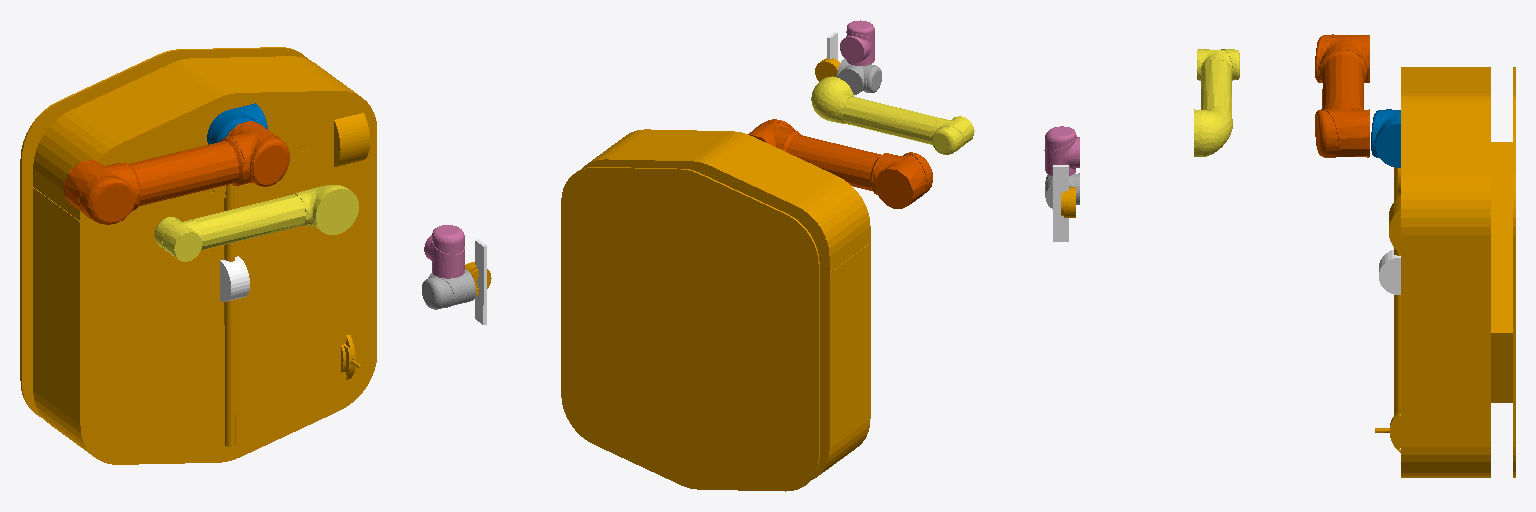
robot.urdf — ridgeback_ur5:
<?xml version="1.0" encoding="UTF-8"?>
<robot name="ridgeback_ur5">
  <joint name="dummy_base_prismatic_y_joint" type="prismatic">
    <origin xyz="0. 0. 0." rpy="0. 0. 0."/>
    <parent link="dummy_base_x"/>
    <child link="dummy_base_y"/>
    <axis xyz="1. 0. 0."/>
    <limit lower="-600.2800293" upper="600.2800293" effort="4800." velocity="15."/>
  </joint>
  <joint name="dummy_base_revolute_z_joint" type="revolute">
    <origin xyz="0. 0. 0." rpy="-1.5707964 -1.5707964 0. "/>
    <parent link="dummy_base_y"/>
    <child link="base_link"/>
    <axis xyz="1. 0. 0."/>
    <limit lower="-600.2800208" upper="600.2800208" effort="4800." velocity="15.0000002"/>
  </joint>
  <joint name="base_lidar" type="fixed">
    <origin xyz="0. 0. 0." rpy="-1.5707964 -1.5707964 0. "/>
    <parent link="base_link"/>
    <child link="tim781"/>
    <axis xyz="1. 0. 0."/>
    <limit lower="-600.2800208" upper="600.2800208" effort="4800." velocity="15.0000002"/>
  </joint>
  <joint name="ur_arm_elbow_joint" type="revolute">
    <origin xyz="0. 0. 0.425" rpy="0. 0. 0."/>
    <parent link="ur_arm_upper_arm_link"/>
    <child link="ur_arm_forearm_link"/>
    <axis xyz="1. 0. 0."/>
    <limit lower="-3.1415927" upper="3.1415927" effort="9000." velocity="3.1415927"/>
  </joint>
  <joint name="ur_arm_shoulder_lift_joint" type="revolute">
    <origin xyz="0. 0. 0." rpy="0. 0. -1.5707964"/>
    <parent link="ur_arm_shoulder_link"/>
    <child link="ur_arm_upper_arm_link"/>
    <axis xyz="1. 0. 0."/>
    <limit lower="-6.2831853" upper="6.2831853" effort="9000." velocity="3.1415927"/>
  </joint>
  <joint name="ur_arm_shoulder_pan_joint" type="revolute">
    <origin xyz="0.369159 0. 0. " rpy="-3.1415925 0. 0. "/>
    <parent link="base_link"/>
    <child link="ur_arm_shoulder_link"/>
    <axis xyz="1. 0. 0."/>
    <limit lower="-6.2831853" upper="6.2831853" effort="9000." velocity="3.1415927"/>
  </joint>
  <joint name="ur_arm_wrist_1_joint" type="revolute">
    <origin xyz="0.10915 0. 0.39225" rpy="0. 0. 0."/>
    <parent link="ur_arm_forearm_link"/>
    <child link="ur_arm_wrist_1_link"/>
    <axis xyz="1. 0. 0."/>
    <limit lower="-6.2831853" upper="6.2831853" effort="1680." velocity="3.1415927"/>
  </joint>
  <joint name="ur_arm_wrist_2_joint" type="revolute">
    <origin xyz="-0. -0.09465 0. " rpy="0. 0. -1.5707964"/>
    <parent link="ur_arm_wrist_1_link"/>
    <child link="ur_arm_wrist_2_link"/>
    <axis xyz="1. 0. 0."/>
    <limit lower="-6.2831853" upper="6.2831853" effort="1680." velocity="3.1415927"/>
  </joint>
  <joint name="ur_arm_wrist_3_joint" type="revolute">
    <origin xyz="-0. 0.0823 0. " rpy="-0.0000001 -0.0000001 0."/>
    <parent link="ur_arm_wrist_2_link"/>
    <child link="ur_arm_wrist_3_link"/>
    <axis xyz="1. 0. 0."/>
    <limit lower="-6.2831853" upper="6.2831853" effort="1680." velocity="3.1415927"/>
  </joint>
  <joint name="ur_arm_wrist_3_sensor_joint" type="fixed">
    <origin xyz="-0. 0. 0. " rpy="-0.0000001 -0.0000001 1.5707964"/>
    <parent link="ur_arm_wrist_3_link"/>
    <child link="hawk_v1_1_nominal"/>
  </joint>
  <link name="base_link">
    <visual>
      <origin xyz="0. 0. 0." rpy="0. 0. 0. "/>
      <geometry>
        <mesh filename="package://rur5/meshes/base_link_visuals_mesh_0.obj" scale="1. 1. 1."/>
      </geometry>
    </visual>
    <visual>
      <origin xyz="0. 0. 0. " rpy="1.57 -1.57 1.57"/>
      <geometry>
        <mesh filename="package://rur5/meshes/base_link_visuals_mesh_1.obj" scale="1. 1. 1."/>
      </geometry>
    </visual>
    <visual>
      <origin xyz=" 0. -0.319 0.05" rpy="1.57 -0. 0."/>
      <geometry>
        <mesh filename="package://rur5/meshes/base_link_visuals_mesh_2.obj" scale="1. 1. 1."/>
      </geometry>
    </visual>
    <visual>
      <origin xyz="0.2755 0.319 0.05 " rpy="1.57 0. 0. "/>
      <geometry>
        <mesh filename="package://rur5/meshes/base_link_visuals_mesh_3.obj" scale="1. 1. 1."/>
      </geometry>
    </visual>
    <visual>
      <origin xyz="0.2755 -0.319 0.05 " rpy="1.57 0. 0. "/>
      <geometry>
        <mesh filename="package://rur5/meshes/base_link_visuals_mesh_4.obj" scale="1. 1. 1."/>
      </geometry>
    </visual>
    <visual>
      <origin xyz="0. -0.319 0.05" rpy="1.57 -0. 0."/>
      <geometry>
        <mesh filename="package://rur5/meshes/base_link_visuals_mesh_5.obj" scale="1. 1. 1."/>
      </geometry>
    </visual>
    <visual>
      <origin xyz=" -0.2755 0.319 0.05" rpy="1.57 0. 0. "/>
      <geometry>
        <mesh filename="package://rur5/meshes/base_link_visuals_mesh_6.obj" scale="1. 1. 1."/>
      </geometry>
    </visual>
    <visual>
      <origin xyz="-0.2755 -0.319 0.05 " rpy="1.57 0. 0. "/>
      <geometry>
        <mesh filename="package://rur5/meshes/mesh_7.obj" scale="1. 1. 1."/>
      </geometry>
    </visual>
    <visual>
      <origin xyz="0. 0. 0." rpy="0. 0. 0. "/>
      <geometry>
        <mesh filename="package://rur5/meshes/mesh_8.obj" scale="1. 1. 1."/>
      </geometry>
    </visual>
    <visual>
      <origin xyz="0. 0. 0." rpy="0. 0. 0. "/>
      <geometry>
        <mesh filename="package://rur5/meshes/mesh_9.obj" scale="1. 1. 1."/>
      </geometry>
    </visual>
    <visual>
      <origin xyz="0. 0. 0." rpy="0. 0. 0. "/>
      <geometry>
        <mesh filename="package://rur5/meshes/mesh_10.obj" scale="1. 1. 1."/>
      </geometry>
    </visual>
    <visual>
      <origin xyz="0. 0. 0." rpy="0. 0. 0. "/>
      <geometry>
        <mesh filename="package://rur5/meshes/mesh_11.obj" scale="1. 1. 1."/>
      </geometry>
    </visual>
    <visual>
      <origin xyz="0. 0. 0." rpy="0. 0. 0. "/>
      <geometry>
        <mesh filename="package://rur5/meshes/mesh_12.obj" scale="1. 1. 1."/>
      </geometry>
    </visual>
    <visual>
      <origin xyz="0. 0. 0." rpy="0. 0. 0. "/>
      <geometry>
        <mesh filename="package://rur5/meshes/mesh_13.obj" scale="1. 1. 1."/>
      </geometry>
    </visual>
    <visual>
      <origin xyz="0. 0. 0." rpy="0. 0. 0. "/>
      <geometry>
        <mesh filename="package://rur5/meshes/mesh_14.obj" scale="1. 1. 1."/>
      </geometry>
    </visual>
    <visual>
      <origin xyz="0.28 0. 0. " rpy="0. 0. 0. "/>
      <geometry>
        <mesh filename="package://rur5/meshes/mesh_15.obj" scale="1. 1. 1."/>
      </geometry>
    </visual>
    <visual>
      <origin xyz="0. 0. 0." rpy="0. 0. 0. "/>
      <geometry>
        <mesh filename="package://rur5/meshes/base_link_collisions_mesh_0.obj" scale="1. 1. 1."/>
      </geometry>
    </visual>
    <visual>
      <origin xyz="0. 0. 0." rpy="0. 0. 0. "/>
      <geometry>
        <mesh filename="package://rur5/meshes/base_link_collisions_mesh_5.obj" scale="1. 1. 1."/>
      </geometry>
    </visual>
    <visual>
      <origin xyz=" -0.2755 0.319 0.05" rpy="1.57 0. 0. "/>
      <geometry>
        <mesh filename="package://rur5/meshes/base_link_collisions_mesh_6.obj" scale="1. 1. 1."/>
      </geometry>
    </visual>
    <collision>
      <origin xyz="0. 0. 0." rpy="0. 0. 0. "/>
      <geometry>
        <mesh filename="package://rur5/meshes/base_link_collisions_mesh_0.obj" scale="1. 1. 1."/>
      </geometry>
    </collision>
    <collision>
      <origin xyz="0.05 0.2755 -0.319 " rpy="0. 0. 0. "/>
      <geometry>
        <cylinder radius="0.0759" length="0.079"/>
      </geometry>
    </collision>
    <collision>
      <origin xyz="0.05 -0.2755 -0.319 " rpy="0. 0. 0. "/>
      <geometry>
        <cylinder radius="0.0759" length="0.079"/>
      </geometry>
    </collision>
    <collision>
      <origin xyz="0.05 0.2755 0.319 " rpy="0. 0. 0. "/>
      <geometry>
        <cylinder radius="0.0759" length="0.079"/>
      </geometry>
    </collision>
    <collision>
      <origin xyz="0.05 -0.2755 0.319 " rpy="0. 0. 0. "/>
      <geometry>
        <cylinder radius="0.0759" length="0.079"/>
      </geometry>
    </collision>
    <collision>
      <origin xyz="0. 0. 0." rpy="0. 0. 0. "/>
      <geometry>
        <mesh filename="package://rur5/meshes/base_link_collisions_mesh_5.obj" scale="1. 1. 1."/>
      </geometry>
    </collision>
    <collision>
      <origin xyz="0.28 0. 0. " rpy="0. 0. 0. "/>
      <geometry>
        <mesh filename="package://rur5/meshes/base_link_collisions_mesh_6.obj" scale="1. 1. 1."/>
      </geometry>
    </collision>
  </link>
  <link name="dummy_base_x">
    <inertial>
      <origin xyz="0. 0. 0." rpy="0. 0. 0."/>
      <mass value="0.0001"/>
      <inertia ixx="0." ixy="0." ixz="0." iyy="0." iyz="0." izz="0."/>
    </inertial>
  </link>
  <link name="dummy_base_y">
    <inertial>
      <origin xyz="0. 0. 0." rpy="0. 0. 0."/>
      <mass value="0.0001"/>
      <inertia ixx="0." ixy="0." ixz="0." iyy="0." iyz="0." izz="0."/>
    </inertial>
  </link>
  <link name="ur_arm_forearm_link">
    <inertial>
      <origin xyz=" 0. 0. 0.0165" rpy="1.57 -0. -1.57"/>
      <mass value="2.2750001"/>
      <inertia ixx="0." ixy="0." ixz="0." iyy="0." iyz="0." izz="0."/>
    </inertial>
    <visual>
      <origin xyz=" 0. 0. 0.0165" rpy="1.57 -0. -1.57"/>
      <geometry>
        <mesh filename="package://rur5/meshes/ur_arm_forearm_link_visuals.obj" scale="1. 1. 1."/>
      </geometry>
    </visual>
    <visual>
      <origin xyz=" 0. 0. 0.0165" rpy="1.57 -0. -1.57"/>
      <geometry>
        <mesh filename="package://rur5/meshes/ur_arm_forearm_link_collisions.obj" scale="1. 1. 1."/>
      </geometry>
    </visual>
    <collision>
      <origin xyz=" 0. 0. 0.0165" rpy="1.57 -0. -1.57"/>
      <geometry>
        <mesh filename="package://rur5/meshes/ur_arm_forearm_link_collisions.obj" scale="1. 1. 1."/>
      </geometry>
    </collision>
  </link>
  <link name="ur_arm_shoulder_link">
    <inertial>
      <origin xyz="0. 0. 0." rpy="0. 0. 3.14 "/>
      <mass value="3.7"/>
      <inertia ixx="0." ixy="0." ixz="0." iyy="0." iyz="0." izz="0."/>
    </inertial>
    <visual>
      <origin xyz="0. 0. 0." rpy="0. 0. 3.14 "/>
      <geometry>
        <mesh filename="package://rur5/meshes/ur_arm_shoulder_link_visuals.obj" scale="1. 1. 1."/>
      </geometry>
    </visual>
    <visual>
      <origin xyz="0. 0. 0." rpy="0. 0. 3.14 "/>
      <geometry>
        <mesh filename="package://rur5/meshes/ur_arm_shoulder_link_collisions.obj" scale="1. 1. 1."/>
      </geometry>
    </visual>
    <collision>
      <origin xyz="0. 0. 0." rpy="0. 0. 3.14 "/>
      <geometry>
        <mesh filename="package://rur5/meshes/ur_arm_shoulder_link_collisions.obj" scale="1. 1. 1."/>
      </geometry>
    </collision>
  </link>
  <link name="ur_arm_upper_arm_link">
    <inertial>
      <origin xyz=" 0. 0. 0.13585" rpy="-1.57 3.14 1.57"/>
      <mass value="8.3929996"/>
      <inertia ixx="0." ixy="0." ixz="0." iyy="0." iyz="0." izz="0."/>
    </inertial>
    <visual>
      <origin xyz=" 0. 0. 0.13585" rpy="-1.57 3.14 1.57"/>
      <geometry>
        <mesh filename="package://rur5/meshes/ur_arm_upper_arm_link_visuals.obj" scale="1. 1. 1."/>
      </geometry>
    </visual>
    <visual>
      <origin xyz=" 0. 0. 0.13585" rpy="-1.57 3.14 1.57"/>
      <geometry>
        <mesh filename="package://rur5/meshes/ur_arm_upper_arm_link_collisions.obj" scale="1. 1. 1."/>
      </geometry>
    </visual>
    <collision>
      <origin xyz=" 0. 0. 0.13585" rpy="-1.57 3.14 1.57"/>
      <geometry>
        <mesh filename="package://rur5/meshes/ur_arm_upper_arm_link_collisions.obj" scale="1. 1. 1."/>
      </geometry>
    </collision>
  </link>
  <link name="ur_arm_wrist_1_link">
    <inertial>
      <origin xyz="0. 0. -0.093 " rpy="-1.57 3.14 3.14 "/>
      <mass value="1.219"/>
      <inertia ixx="0." ixy="0." ixz="0." iyy="0." iyz="0." izz="0."/>
    </inertial>
    <visual>
      <origin xyz=" 0. 0. -0.093" rpy="-1.57 3.14 3.14 "/>
      <geometry>
        <mesh filename="package://rur5/meshes/ur_arm_wrist_1_link_visuals.obj" scale="1. 1. 1."/>
      </geometry>
    </visual>
    <visual>
      <origin xyz="0. 0. -0.093 " rpy="-1.57 3.14 3.14 "/>
      <geometry>
        <mesh filename="package://rur5/meshes/ur_arm_wrist_1_link_collisions.obj" scale="1. 1. 1."/>
      </geometry>
    </visual>
    <collision>
      <origin xyz="0. 0. -0.093 " rpy="-1.57 3.14 3.14 "/>
      <geometry>
        <mesh filename="package://rur5/meshes/ur_arm_wrist_1_link_collisions.obj" scale="1. 1. 1."/>
      </geometry>
    </collision>
  </link>
  <link name="ur_arm_wrist_2_link">
    <inertial>
      <origin xyz="0. 0.005 -0.095" rpy="0. 0. 0. "/>
      <mass value="1.219"/>
      <inertia ixx="0." ixy="0." ixz="0." iyy="0." iyz="0." izz="0."/>
    </inertial>
    <visual>
      <origin xyz="0. 0.005 -0.095" rpy="0. 0. 0. "/>
      <geometry>
        <mesh filename="package://rur5/meshes/ur_arm_wrist_2_link_visuals.obj" scale="1. 1. 1."/>
      </geometry>
    </visual>
    <visual>
      <origin xyz="0. 0.005 -0.095" rpy="0. 0. 0. "/>
      <geometry>
        <mesh filename="package://rur5/meshes/ur_arm_wrist_2_link_collisions.obj" scale="1. 1. 1."/>
      </geometry>
    </visual>
    <collision>
      <origin xyz="0. 0.005 -0.095" rpy="0. 0. 0. "/>
      <geometry>
        <mesh filename="package://rur5/meshes/ur_arm_wrist_2_link_collisions.obj" scale="1. 1. 1."/>
      </geometry>
    </collision>
  </link>
  <link name="ur_arm_wrist_3_link">
    <inertial>
      <origin xyz=" -0. 0. -0.083" rpy="1.57 0. 0. "/>
      <mass value="0.1879"/>
      <inertia ixx="0." ixy="0." ixz="0." iyy="0." iyz="0." izz="0."/>
    </inertial>
    <visual>
      <origin xyz=" -0. 0. -0.083" rpy="1.57 0. 0.  "/>
      <geometry>
        <mesh filename="package://rur5/meshes/ur_arm_wrist_3_link_visuals.obj" scale="1. 1. 1."/>
      </geometry>
    </visual>
    <visual>
      <origin xyz=" -0. 0. -0.083" rpy="1.57 0. 0.  "/>
      <geometry>
        <mesh filename="package://rur5/meshes/ur_arm_wrist_3_link_collisions.obj" scale="1. 1. 1."/>
      </geometry>
    </visual>
    <collision>
      <origin xyz=" -0. 0. -0.083" rpy="1.57 0. 0. "/>
      <geometry>
        <mesh filename="package://rur5/meshes/ur_arm_wrist_3_link_collisions.obj" scale="1. 1. 1."/>
      </geometry>
    </collision>
  </link>
  <material name="white">
    <color rgba="1 1 1 1"/>
  </material>
  <link name="hawk_v1_1_nominal">
    <visual>
      <origin xyz=" 0.005 0. 0." rpy="0. 0. 1.57  "/>
      <material name="white"/>
      <geometry>
        <box size="0.2 0.01 0.04"/>
      </geometry>
      
    </visual>

  </link>
  <link name="tim781">
    <visual>
      <origin xyz=" 0. 0. 0." rpy="0. 0. 1.57  "/>
      <material name="white"/>
      <geometry>
        <cylinder length="0.05" radius="0.05"/>
      </geometry>
      
    </visual>

  </link>
</robot>

--- Facts derived from the render (not from the file) ---
3 views of the same robot in one strip: view 1: azimuth 30°, elevation 25°; view 2: azimuth 150°, elevation 25°; view 3: azimuth 270°, elevation 25° (orthographic).
Model ridgeback_ur5 with 11 links and 10 joints (7 revolute, 1 prismatic, 2 fixed), rooted at dummy_base_x, posed all joints at 0.
Links seen in each view (by area): view 1: base_link, ur_arm_upper_arm_link, ur_arm_forearm_link, ur_arm_wrist_1_link, ur_arm_wrist_2_link, ur_arm_shoulder_link, tim781, hawk_v1_1_nominal; view 2: base_link, ur_arm_upper_arm_link, ur_arm_forearm_link, ur_arm_wrist_1_link, ur_arm_wrist_2_link; view 3: base_link, ur_arm_upper_arm_link, ur_arm_forearm_link, ur_arm_shoulder_link, ur_arm_wrist_1_link, hawk_v1_1_nominal, tim781.
Link boxes in pixels (x1,y1,x2,y2): base_link: [20, 47, 376, 464]; ur_arm_upper_arm_link: [64, 121, 289, 224]; ur_arm_forearm_link: [154, 185, 358, 261]; ur_arm_wrist_1_link: [424, 225, 464, 278]; ur_arm_wrist_2_link: [422, 270, 475, 309]; ur_arm_shoulder_link: [207, 103, 267, 144]; tim781: [220, 256, 249, 301]; hawk_v1_1_nominal: [475, 239, 486, 324]; base_link: [561, 129, 870, 491]; ur_arm_upper_arm_link: [748, 119, 932, 208]; ur_arm_forearm_link: [811, 76, 974, 154]; ur_arm_wrist_1_link: [840, 20, 874, 65]; ur_arm_wrist_2_link: [837, 59, 881, 94]; base_link: [1375, 67, 1515, 477]; ur_arm_upper_arm_link: [1315, 34, 1369, 157]; ur_arm_forearm_link: [1194, 49, 1239, 156]; ur_arm_shoulder_link: [1371, 109, 1400, 167]; ur_arm_wrist_1_link: [1044, 126, 1079, 175]; hawk_v1_1_nominal: [1053, 165, 1068, 241]; tim781: [1379, 250, 1400, 294].
Size in the robot's own frame: 0.8799 by 1.14 by 0.9325 metres.
21 mesh visuals loaded from 31 distinct referenced files (21 OBJ); not drawn: 10 (reference not matched to a file when rendering).
